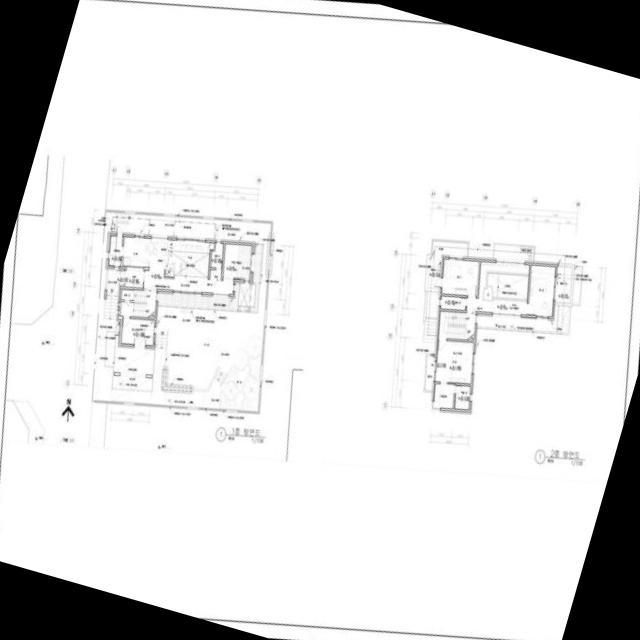background: (0, 0, 640, 640)
space_balconi: (424, 355, 435, 390)
space_bedroom: (435, 339, 473, 383), (527, 264, 554, 316), (441, 258, 478, 295)
space_dressroom: (433, 383, 454, 408)
space_front: (124, 266, 143, 287)
space_kitchen: (122, 236, 151, 266)
space_living_room: (143, 237, 233, 293), (466, 261, 529, 314)
space_multipurpose_space: (108, 235, 122, 265)
space_other: (484, 272, 528, 298), (222, 243, 252, 279), (120, 317, 154, 344), (106, 268, 124, 292), (120, 287, 133, 299)
space_staircase: (438, 310, 475, 339), (118, 289, 156, 317), (103, 291, 117, 319)
space_toilet: (454, 384, 470, 409), (440, 295, 465, 309), (210, 242, 223, 267), (209, 268, 221, 280)
